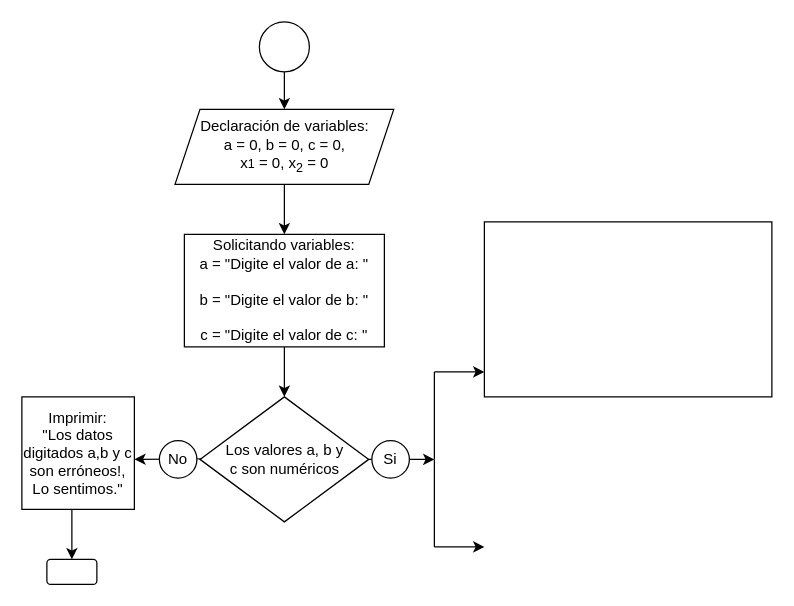
This 794x606 diagram has some shape labels left out. Each missing label, with the centre of its shape:
Fin.: [71,571]
Inicio: [283,46]
x 1 = (-(b) +: [627,309]
